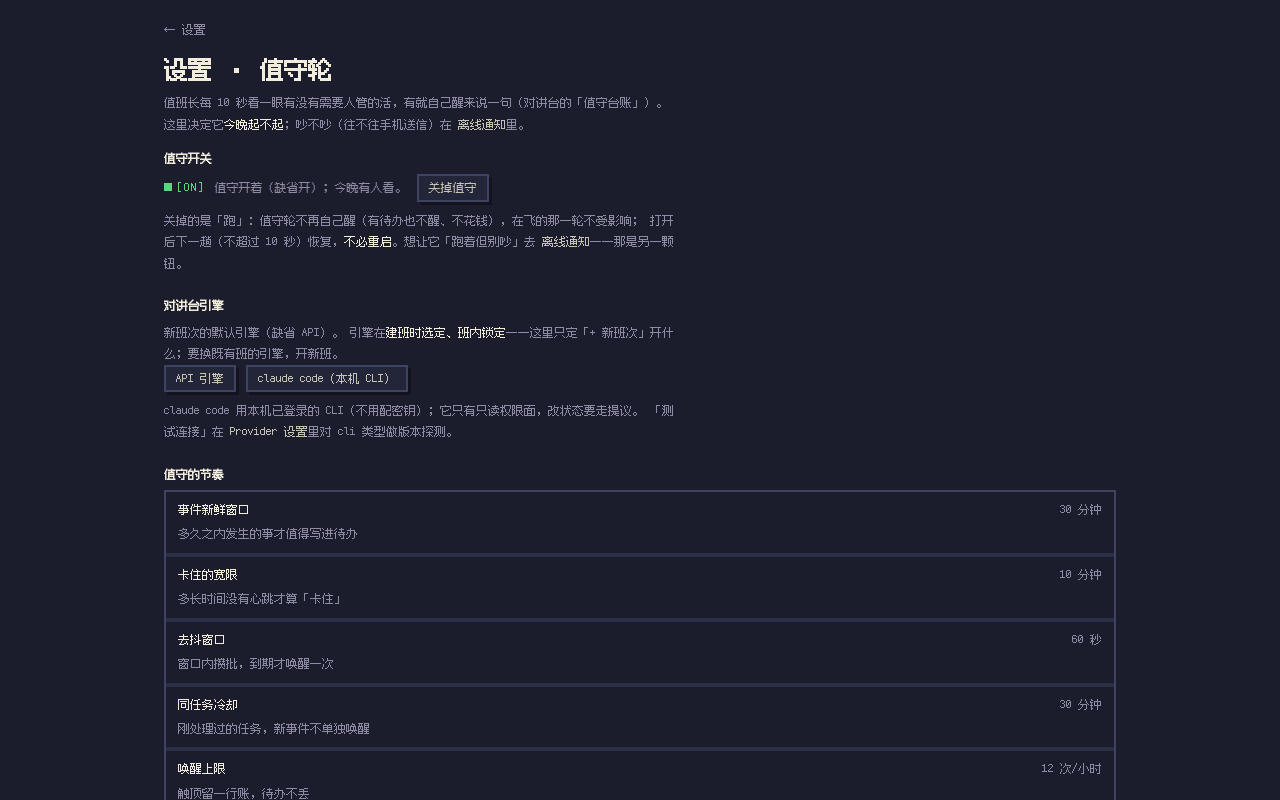
Scenario: SettingsForeman › 关掉：把 {enabled:false} 交出去、以重读为准、文案说「今晚没人看」
The image size is (1280, 800).
Step 1. Click the button "关掉值守" → (453,188), box [417, 174, 489, 202]
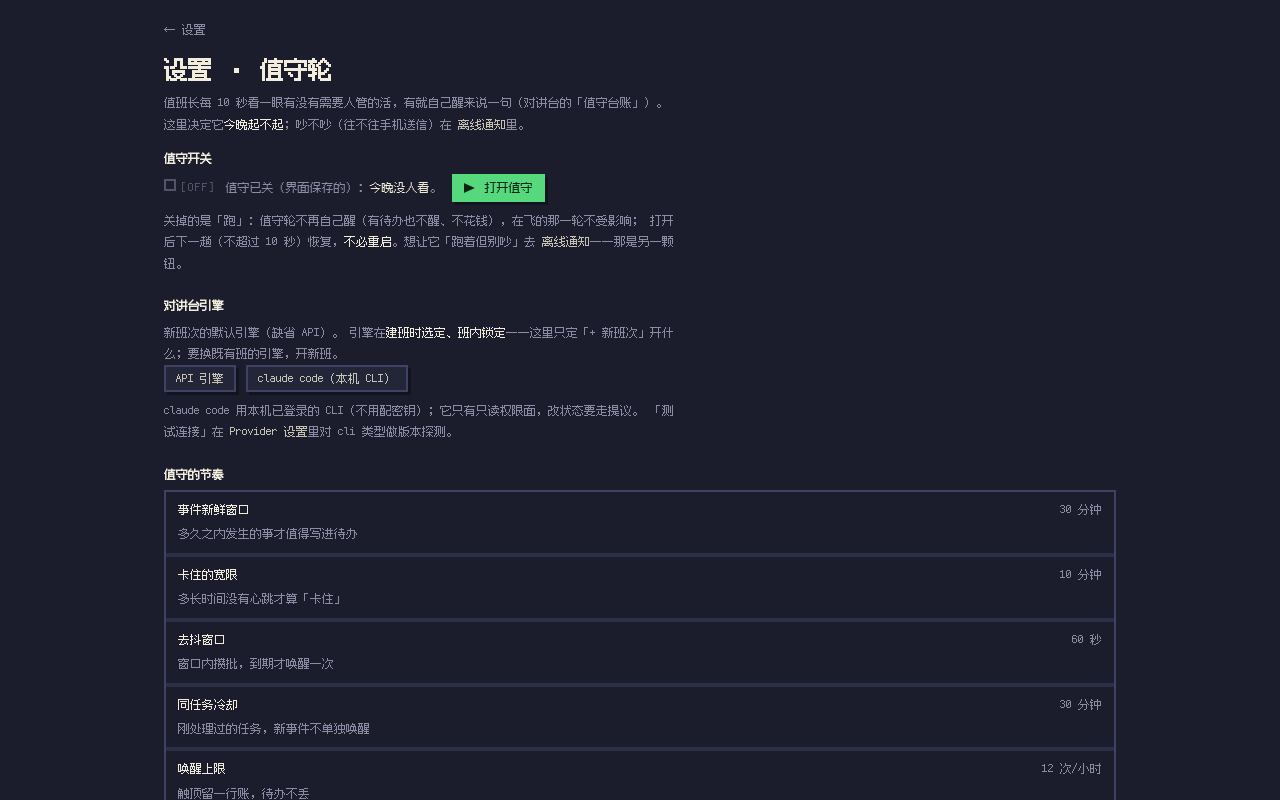
Expected: the text "[OFF]" is shown, [164, 178, 216, 198]
Expected: the text "今晚没人看" is shown, [370, 181, 430, 193]
